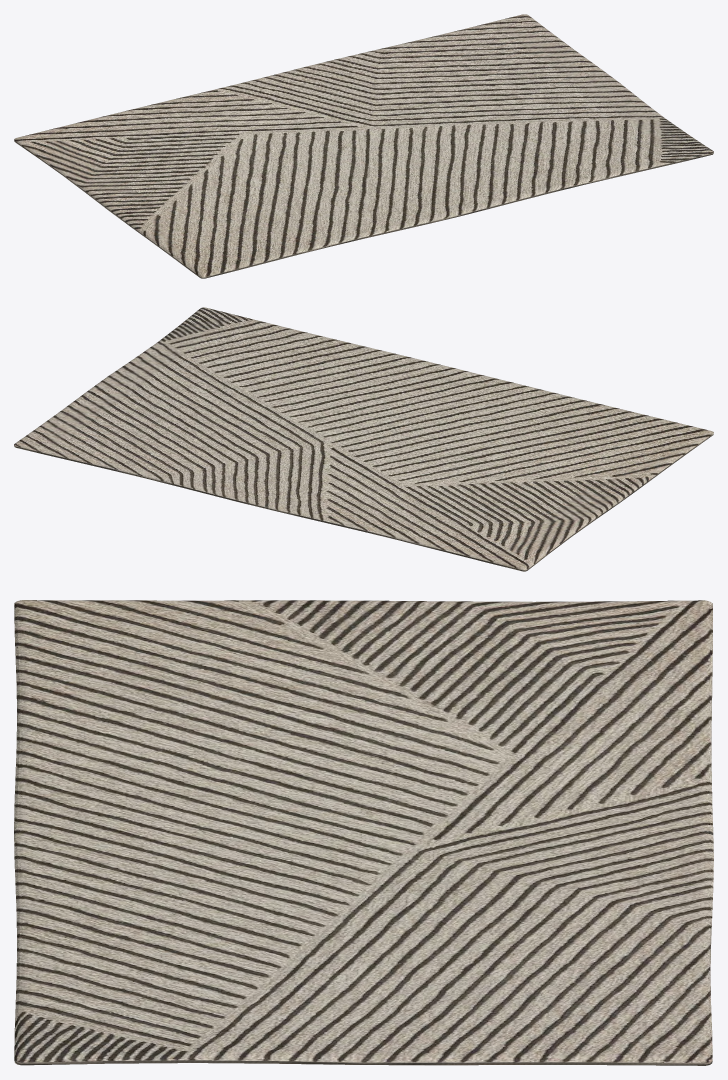
The model's file is B07HSHG84W.glb.
3 views of the same model, one above another, from view 1: azimuth 30°, elevation 25°; view 2: azimuth 150°, elevation 25°; view 3: azimuth 270°, elevation 25° (orthographic). The views are drawn at different scales.
Visible parts, largest first — view 1: RootNode; view 2: RootNode; view 3: RootNode.
Boxes of the visible parts, <box> form: RootNode: <box>14,14,713,278</box>; RootNode: <box>14,307,713,571</box>; RootNode: <box>14,600,713,1065</box>.
Size of the model in its own units: 2.41 by 0.0232 by 1.54.
1 material, 1 textured.
